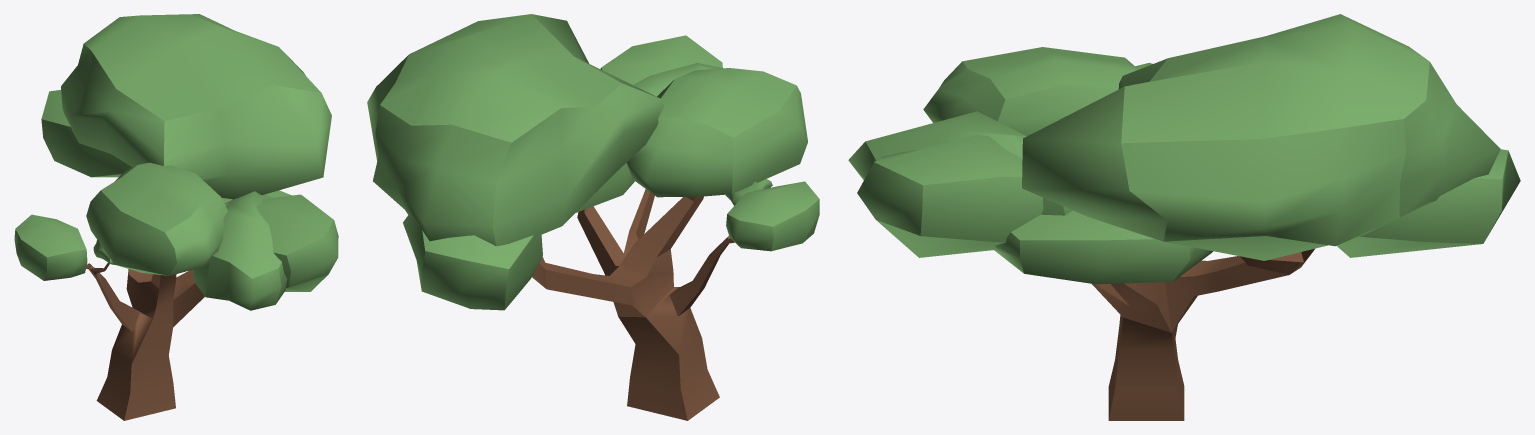
The model's file is tree.fbx.
3 views of the same model, side by side, from view 1: azimuth 30°, elevation 25°; view 2: azimuth 150°, elevation 25°; view 3: azimuth 270°, elevation 25° (orthographic). The views are drawn at different scales.
Parts seen in each view (by area): view 1: forest_path:pCube161; view 2: forest_path:pCube161; view 3: forest_path:pCube161.
Boxes of the visible parts, left/top/right/bottom form: forest_path:pCube161: left=14, top=14, right=338, bottom=420; forest_path:pCube161: left=367, top=14, right=819, bottom=420; forest_path:pCube161: left=848, top=14, right=1520, bottom=420.
Size of the model in its own units: 44.78 by 39.9 by 56.2.
